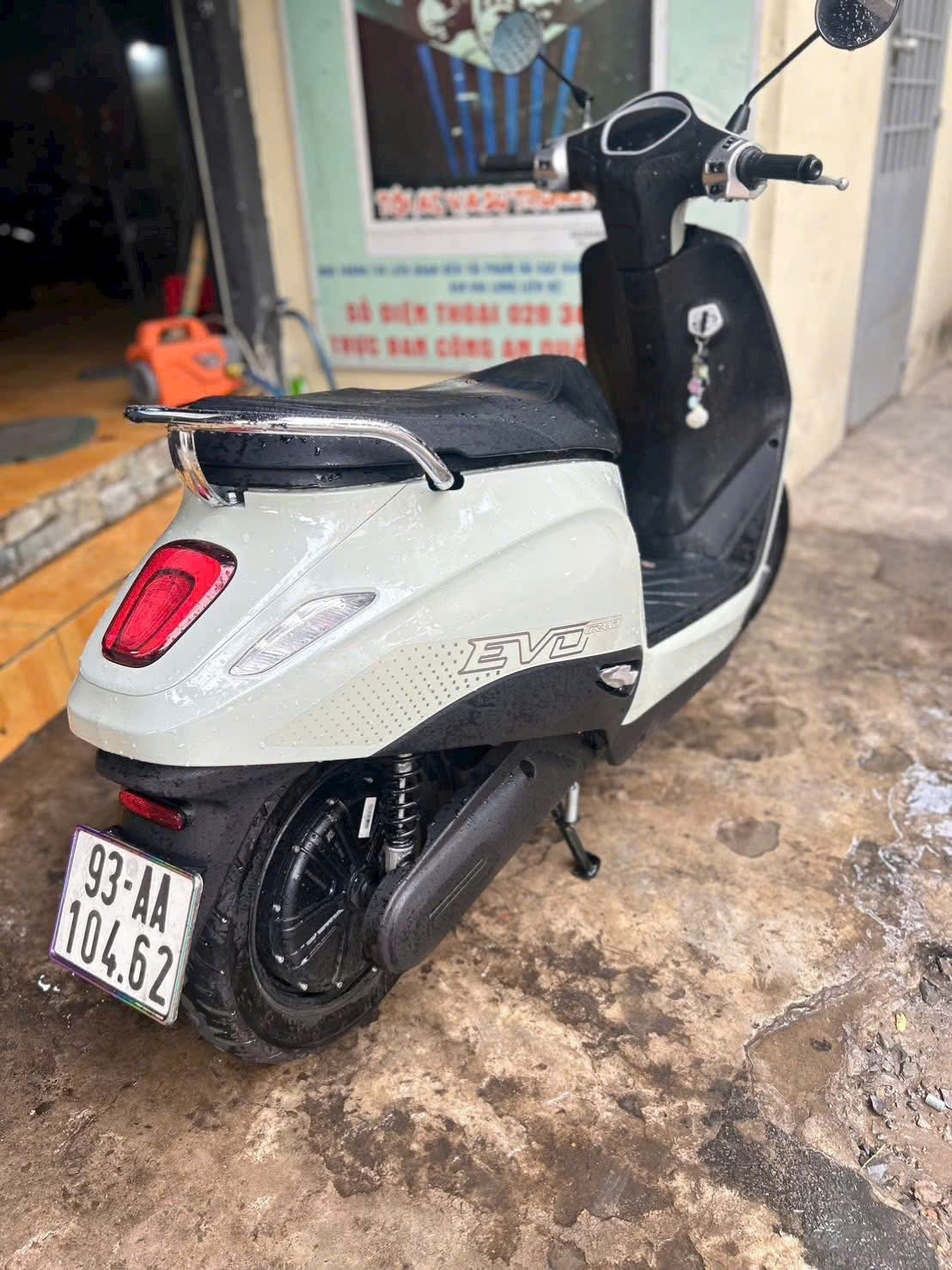Bien-so: (56, 826, 205, 1031)
